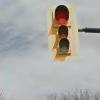Traffic light: (40, 0, 88, 68)
